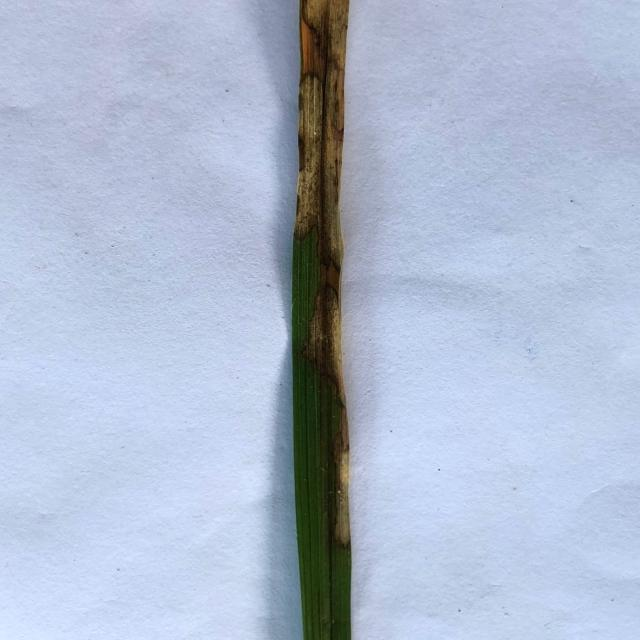Leaf Blight: (296, 0, 349, 549)
